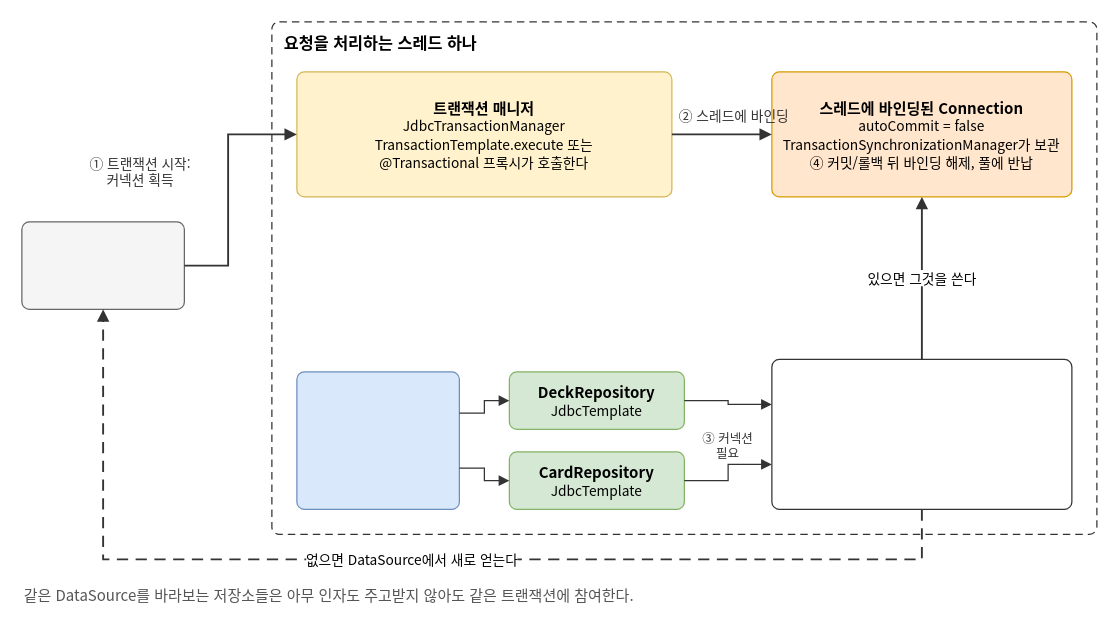
Some shapes in this 1119 by 638 pixel diagram are drawn without their labels. The centre of each missing label's shape, as x and y in pixels:
"이 스레드에 진행 중인 트랜잭션의 커넥션이 있는가?" DataSourceUtils.getConnection(): [921,433]
DataSource 커넥션 풀: [102,265]
DeckService .importDeck() 커넥션을 인자로 넘기지 않는다: [377,440]
